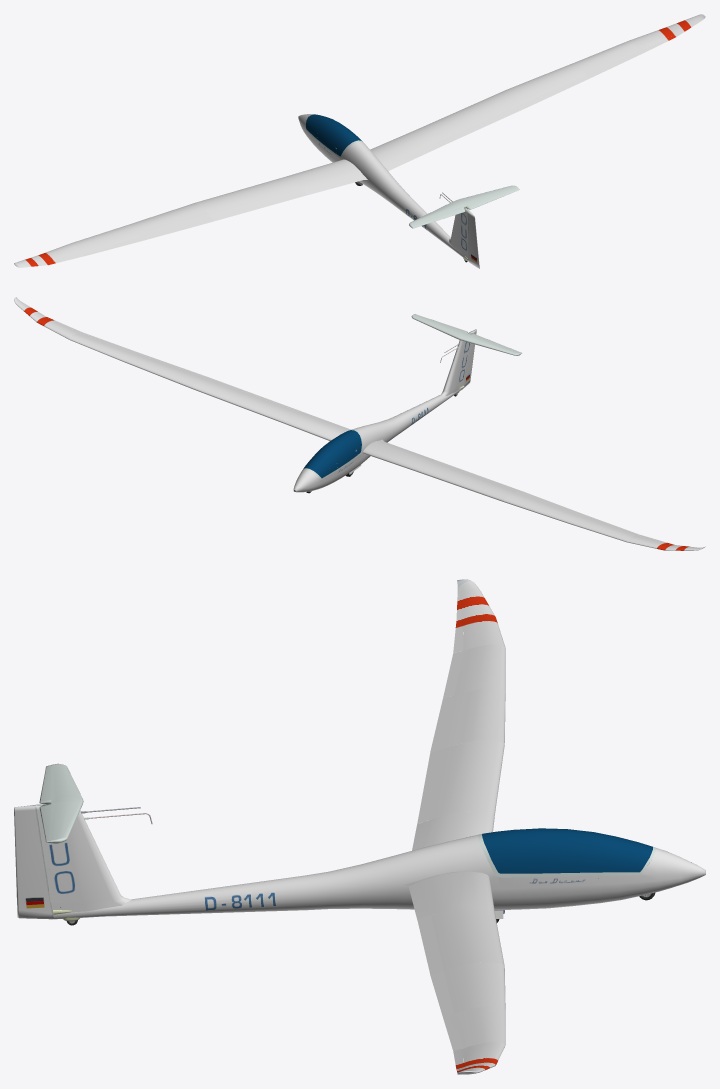
Rendered from Duo_Discus_stat.gltf.
3 renders of one model, top to bottom at view 1: azimuth 30°, elevation 25°; view 2: azimuth 150°, elevation 25°; view 3: azimuth 270°, elevation 25°, orthographic. The views are drawn at different scales.
Visible parts, largest first — view 1: node3, node6, node11; view 2: node3, node6, node11; view 3: node3, node6, node11.
Part boxes in pixels (<box>): node3: <box>14,14,705,267</box>; node6: <box>298,114,519,268</box>; node11: <box>306,114,362,156</box>; node3: <box>14,297,705,550</box>; node6: <box>293,314,521,493</box>; node11: <box>303,430,361,478</box>; node3: <box>402,579,598,1074</box>; node6: <box>14,763,705,925</box>; node11: <box>482,828,652,873</box>.
Bounding box in the file's own units: 19.81 × 2.52 × 8.9.
